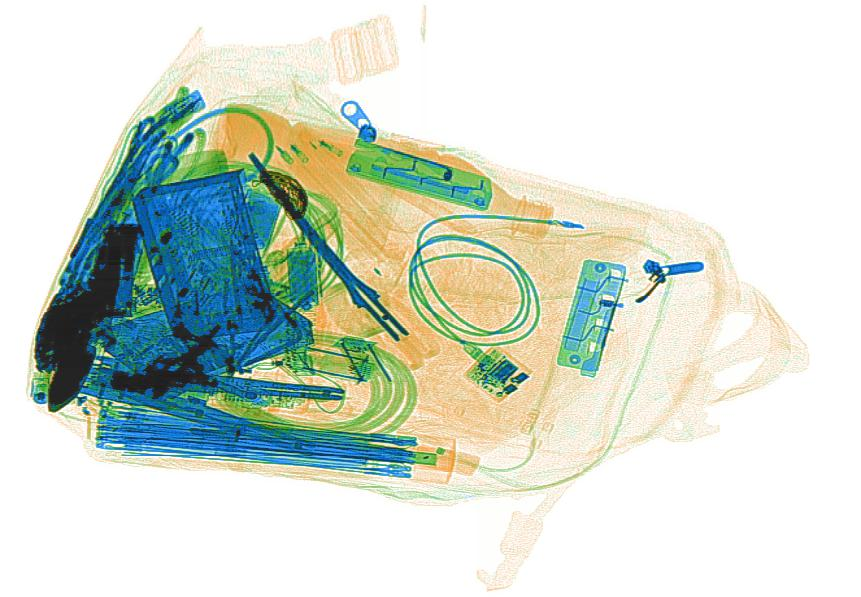battery: (229, 190, 285, 252), (282, 239, 324, 314)
scissors: (243, 148, 441, 371)
